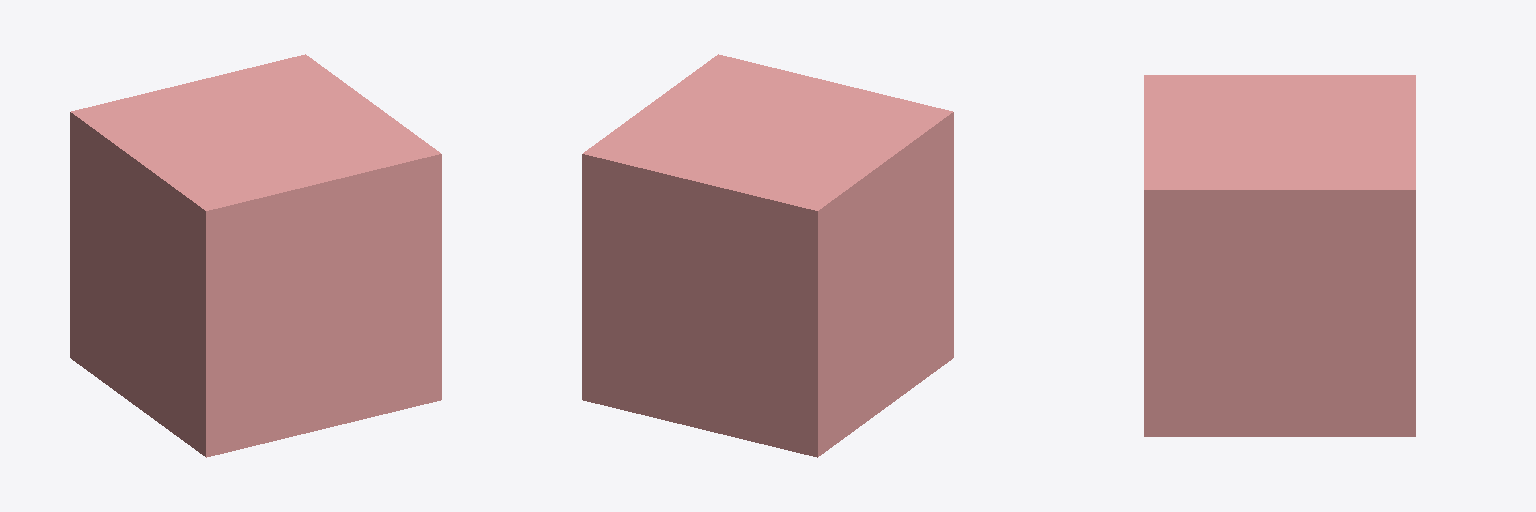
The picture shows the model from 3 angles: view 1: azimuth 30°, elevation 25°; view 2: azimuth 150°, elevation 25°; view 3: azimuth 270°, elevation 25°; orthographic projection.
Parts seen in each view (by area): view 1: Cube; view 2: Cube; view 3: Cube.
Part boxes in pixels (x1,y1,x2,y2): Cube: (70, 54, 441, 457); Cube: (582, 54, 953, 457); Cube: (1144, 75, 1415, 436).
Bounding box in the file's own units: 2 × 2 × 2.
1 materials, 1 textured.